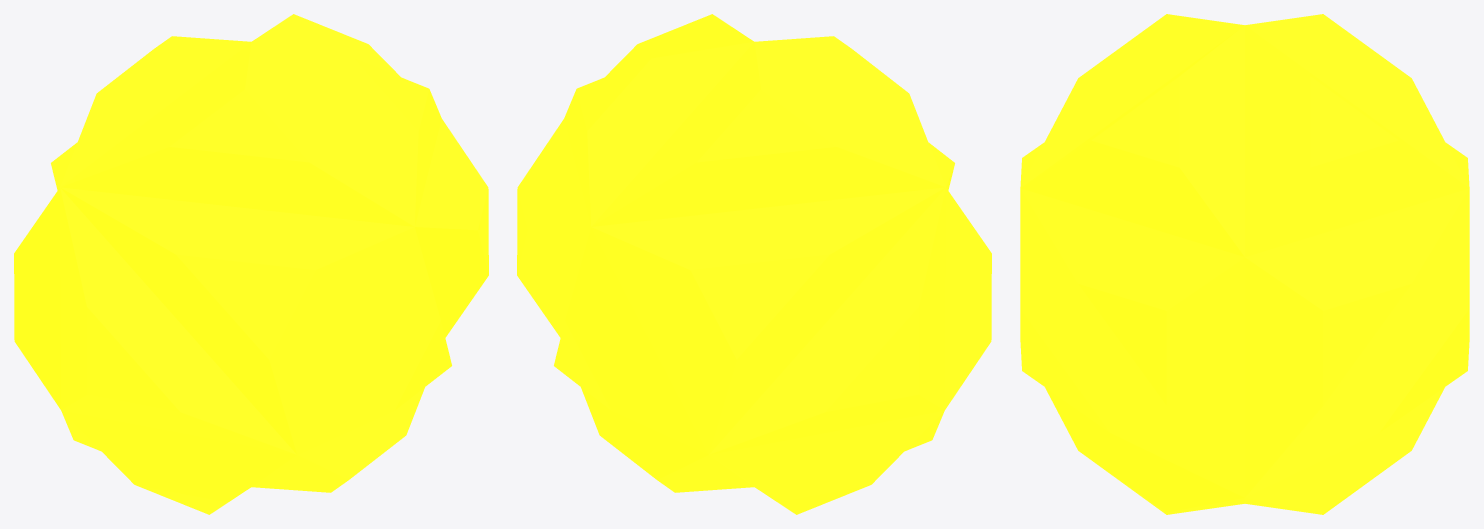
File: Cristal Amarillo.fbx
3 views of the same model, side by side, from view 1: azimuth 30°, elevation 25°; view 2: azimuth 150°, elevation 25°; view 3: azimuth 270°, elevation 25° (orthographic). The views are drawn at different scales.
Visible parts, largest first — view 1: Cristal Amarillo; view 2: Cristal Amarillo; view 3: Cristal Amarillo.
Boxes of the visible parts, x1,y1,x2,y2 form: Cristal Amarillo: (14,14,488,514); Cristal Amarillo: (517,14,991,514); Cristal Amarillo: (1020,14,1469,514).
Bounding box in the file's own units: 189 × 200 × 170.
